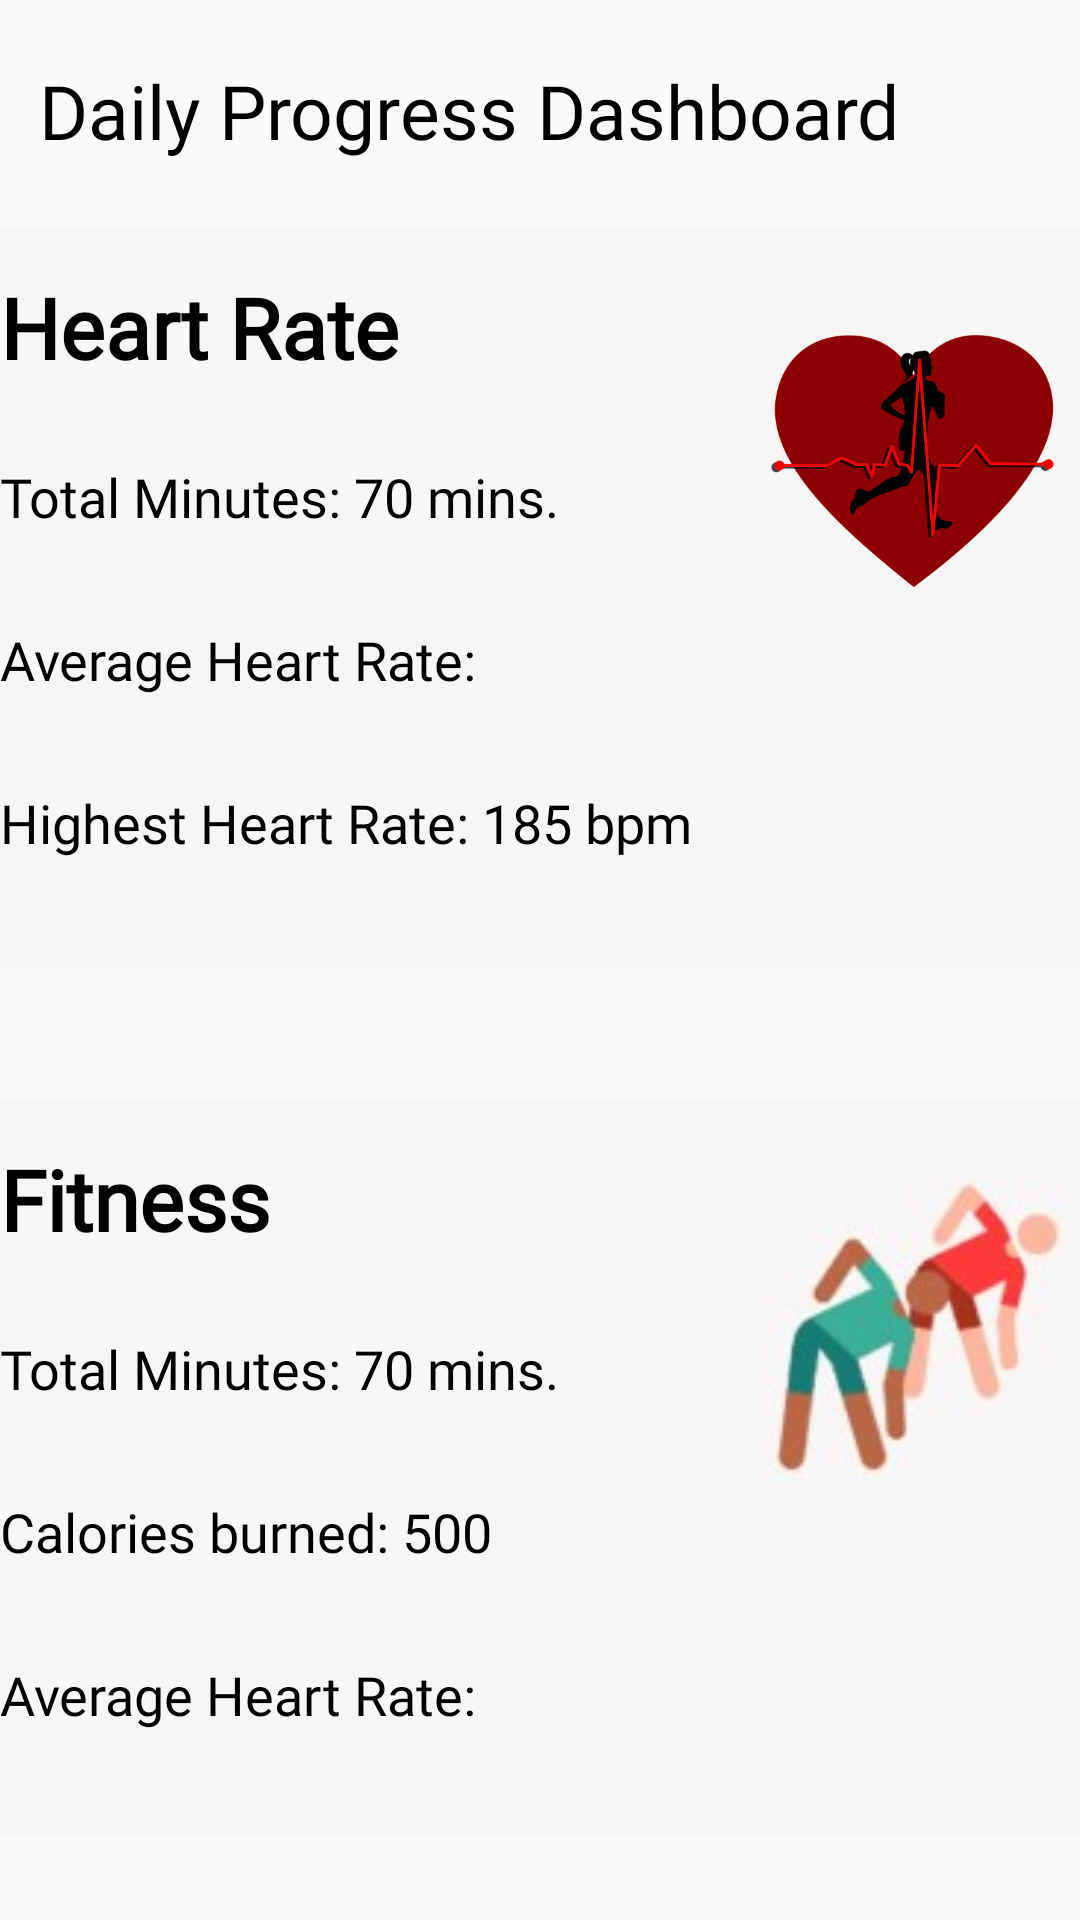

Screen size 1080×1920. Icon name, then its box in pixels as (x1, y1, x2, y2):
Fitness Image: (776, 1184, 1060, 1472)
